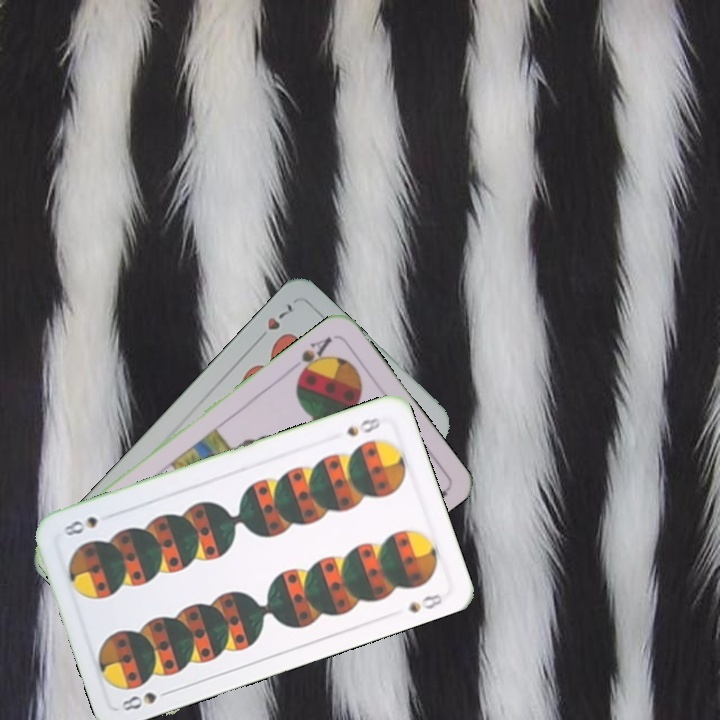H7: (252, 299, 295, 345)
S8: (117, 685, 175, 714), (342, 413, 387, 439)
SA: (293, 332, 335, 382)
